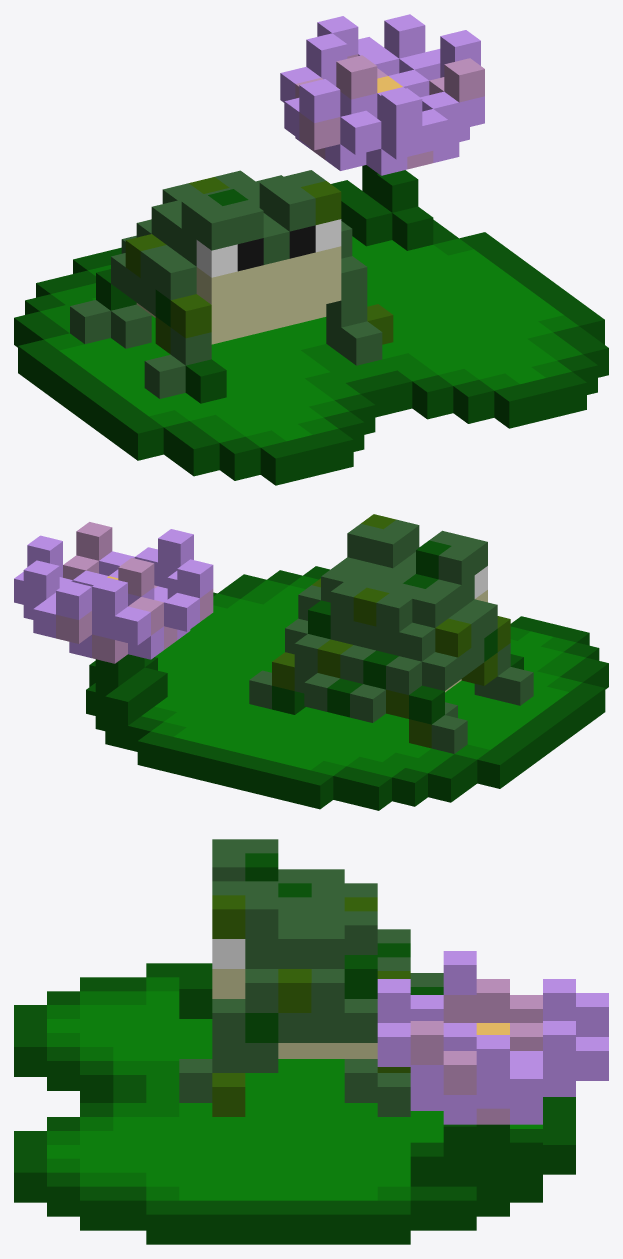
The model's file is frog.obj.
3 renders of one model, top to bottom at view 1: azimuth 30°, elevation 25°; view 2: azimuth 150°, elevation 25°; view 3: azimuth 270°, elevation 25°, orthographic. The views are drawn at different scales.
Bounding box in the file's own units: 1.9 × 0.7 × 1.8.
1 material, 1 textured.
